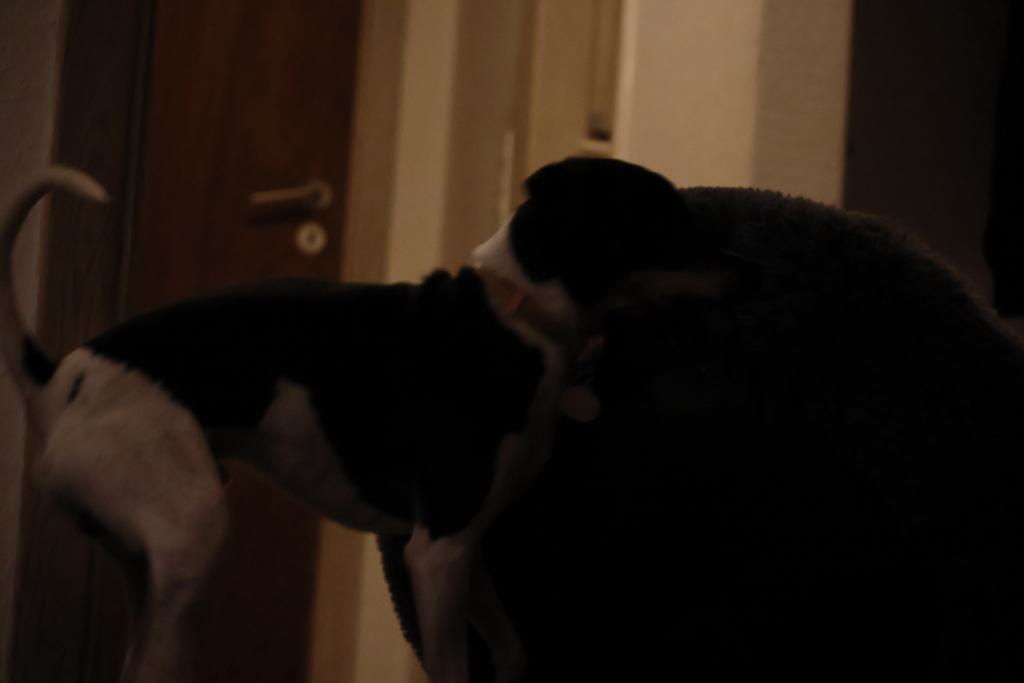Dog: (0, 128, 745, 683)
